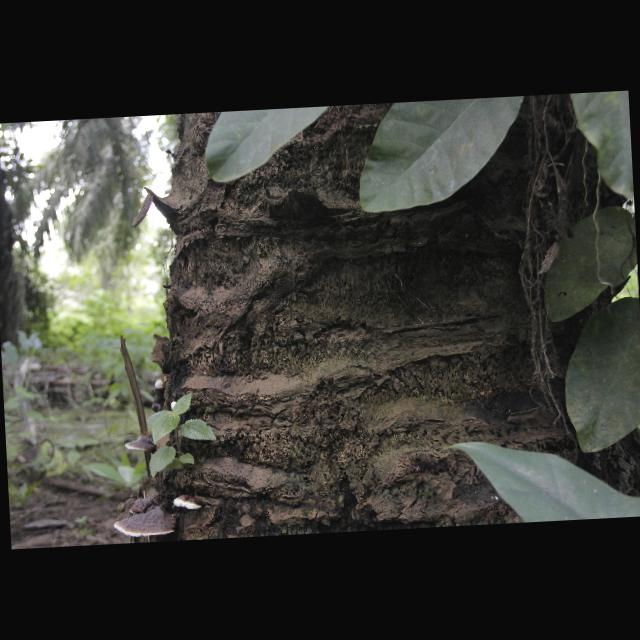ganoderma: (114, 507, 179, 541), (129, 497, 166, 517), (124, 435, 156, 454), (174, 496, 203, 513)
primordium: (155, 379, 168, 391), (172, 403, 178, 412)
